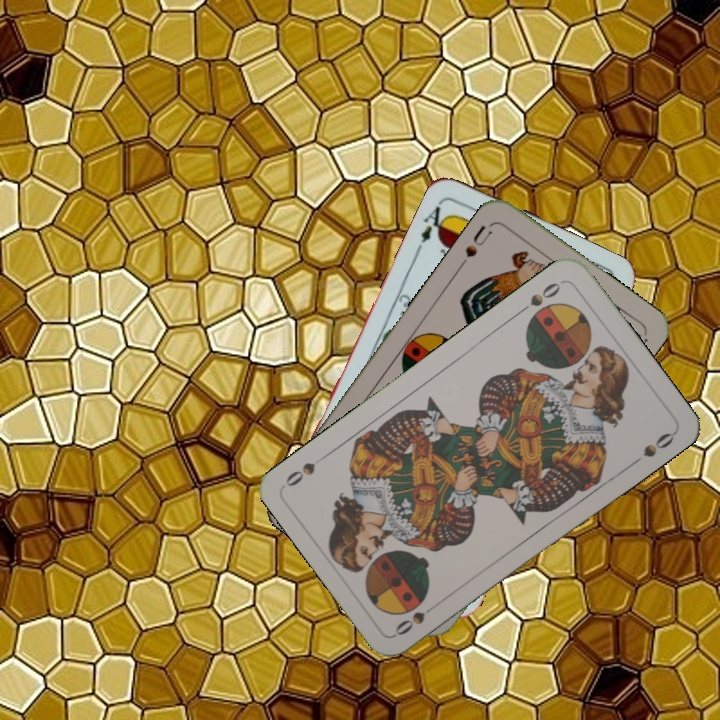EA: (412, 197, 452, 253)
SO: (390, 597, 442, 639), (515, 277, 566, 316)
SU: (455, 221, 495, 270)
